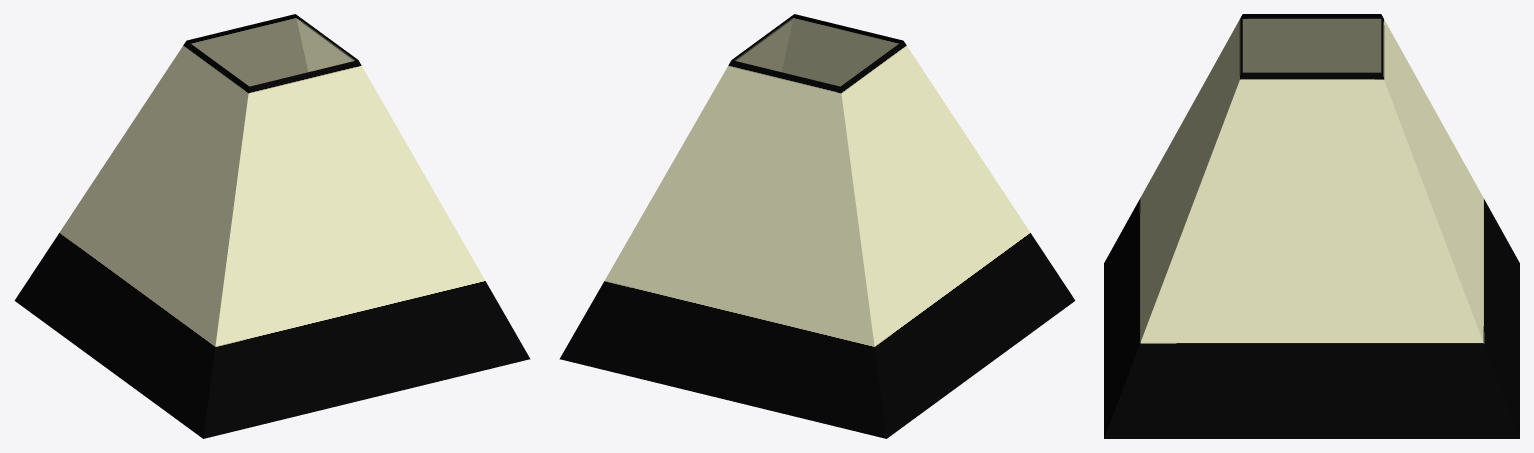
File: ceiling_lamp_1_fake_light_1.obj
3 views of the same model, side by side, from view 1: azimuth 30°, elevation 25°; view 2: azimuth 150°, elevation 25°; view 3: azimuth 270°, elevation 25° (orthographic). The views are drawn at different scales.
Visible parts, largest first — view 1: ceiling_lamp_1_fake_light_1; view 2: ceiling_lamp_1_fake_light_1; view 3: ceiling_lamp_1_fake_light_1.
Boxes of the visible parts, left/top/right/bottom form: ceiling_lamp_1_fake_light_1: left=14, top=14, right=530, bottom=438; ceiling_lamp_1_fake_light_1: left=559, top=14, right=1075, bottom=438; ceiling_lamp_1_fake_light_1: left=1104, top=14, right=1519, bottom=438.
Bounding box in the file's own units: 3 × 2.45 × 3.
